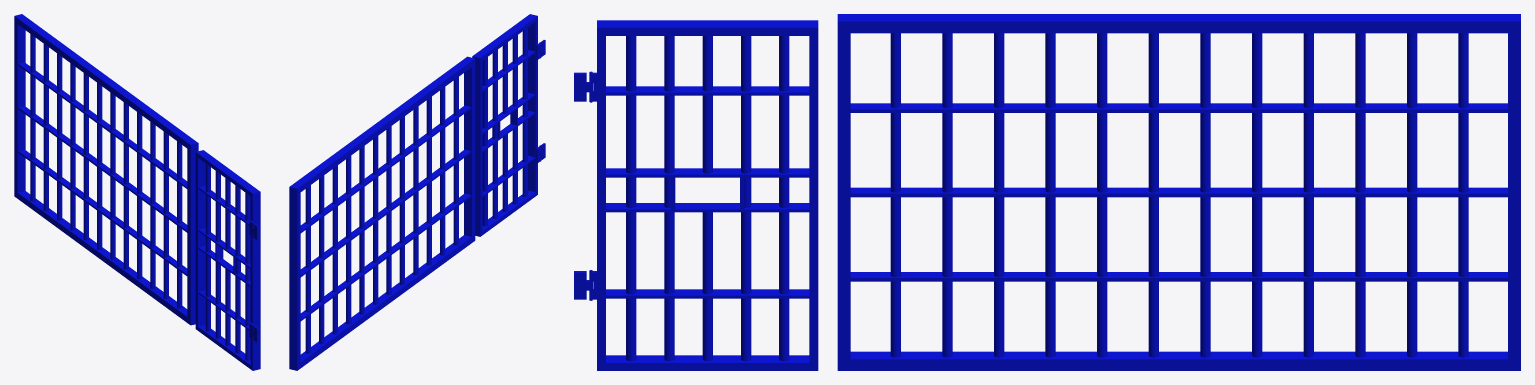
Rendered from Prison.fbx.
3 renders of one model, left to right at view 1: azimuth 30°, elevation 25°; view 2: azimuth 150°, elevation 25°; view 3: azimuth 270°, elevation 25°, orthographic. The views are drawn at different scales.
Parts seen in each view (by area): view 1: Cylinder.004, Cylinder.006; view 2: Cylinder.004, Cylinder.006; view 3: Cylinder.004, Cylinder.006.
Boxes of the visible parts, x1=… form: Cylinder.004: x1=14, y1=14, x2=260, y2=370; Cylinder.006: x1=18, y1=62, x2=250, y2=330; Cylinder.004: x1=289, y1=14, x2=537, y2=370; Cylinder.006: x1=300, y1=50, x2=534, y2=321; Cylinder.004: x1=597, y1=14, x2=1520, y2=370; Cylinder.006: x1=606, y1=86, x2=1507, y2=298.
Bounding box in the file's own units: 12.26 × 223 × 546.
